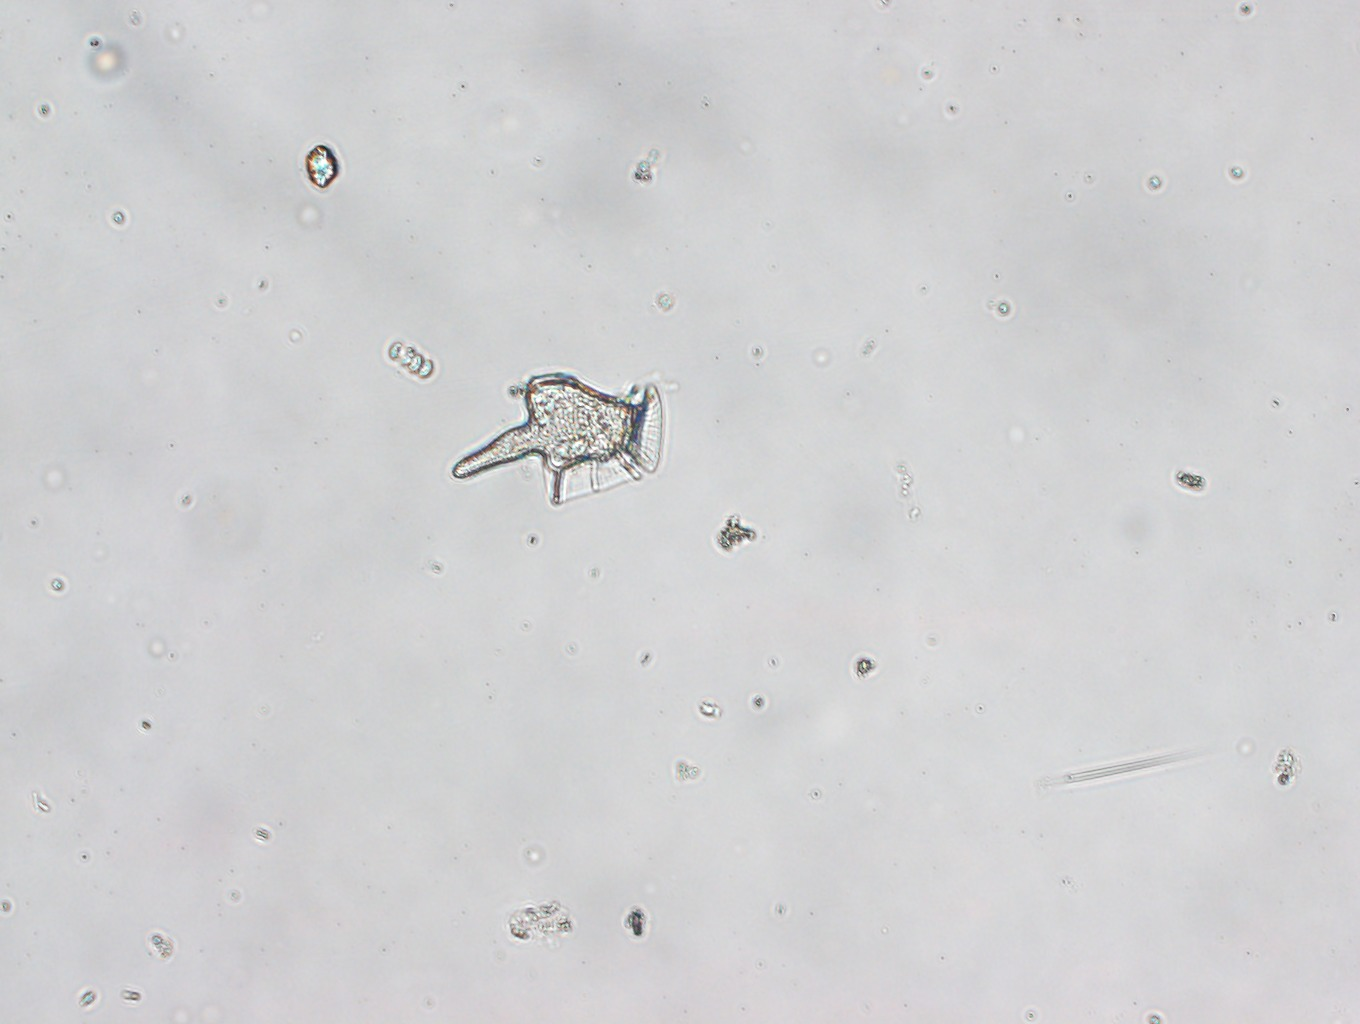dinophysis caudata: (445, 359, 672, 517)
